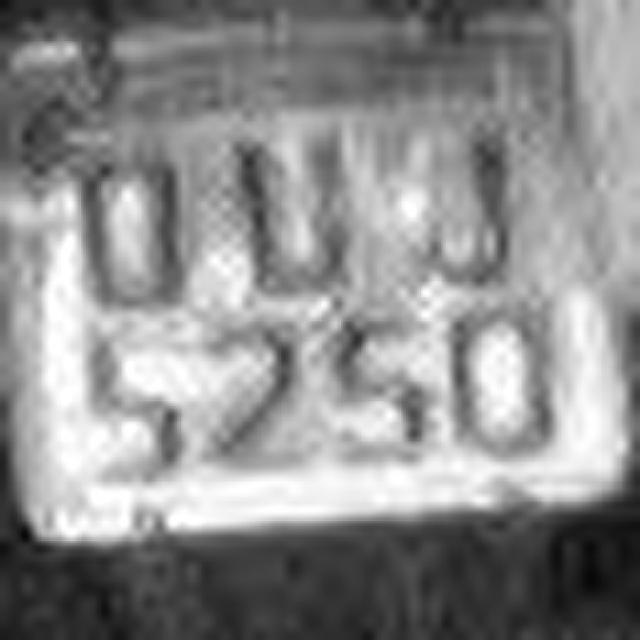0: (408, 291, 588, 504)
2: (116, 285, 372, 500)
5: (272, 289, 472, 496)
9: (372, 536, 488, 636)
J: (371, 135, 564, 320)
U: (204, 116, 396, 316)
